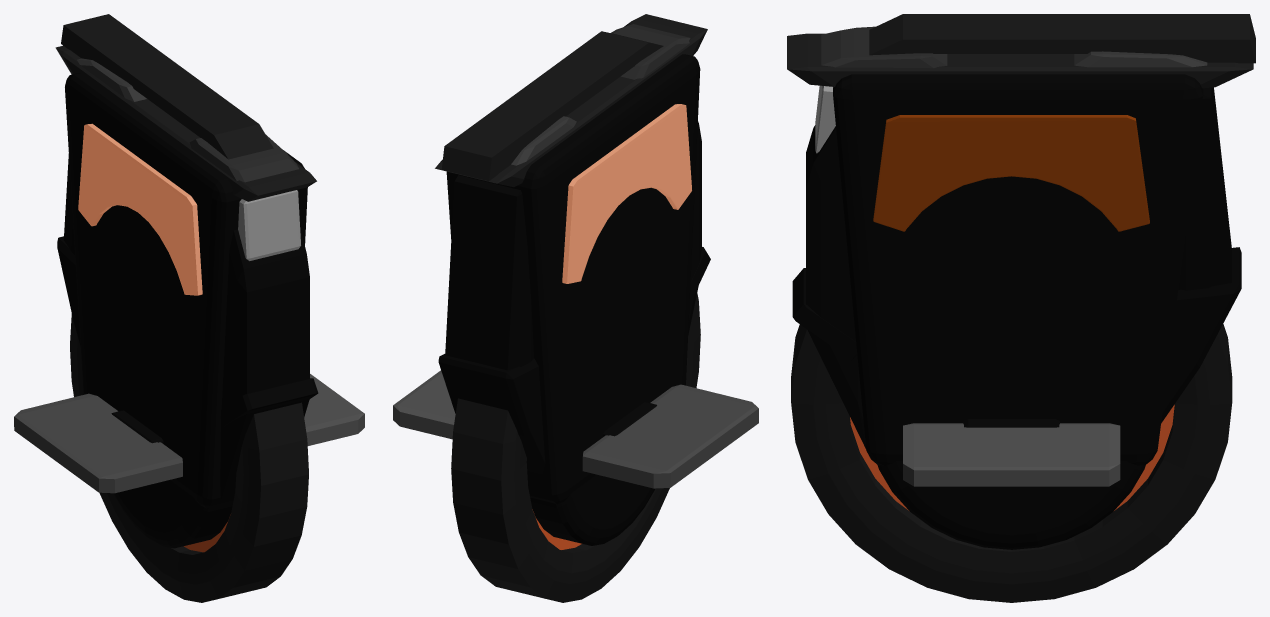
Rendered from monowheel.glb.
3 renders of one model, left to right at view 1: azimuth 30°, elevation 25°; view 2: azimuth 150°, elevation 25°; view 3: azimuth 270°, elevation 25°, orthographic. The views are drawn at different scales.
Visible parts, largest first — view 1: Cube, WheelAnimation, Куб, Куб.007, Куб.014, Куб.010, Куб.004, Куб.003, Куб.013, Куб.006, Куб.008, Куб.002 (+3 smaller); view 2: Cube, WheelAnimation, Куб.001, Куб.007, Куб.014, Куб.010, Куб.002, Куб.004, Куб.013, Куб.006, Куб, Куб.005 (+1 smaller); view 3: Cube, WheelAnimation, Куб.009, Куб.007, Куб.013, Куб, Куб.004, Куб.001, Куб.002, Куб.006, Куб.005, Куб.008 (+2 smaller).
Part boxes in pixels (box(x1,y1,x2,y2)): Cube: box(65, 73, 307, 548); WheelAnimation: box(70, 313, 308, 602); Куб: box(220, 229, 309, 500); Куб.007: box(61, 14, 273, 159); Куб.014: box(14, 393, 182, 493); Куб.010: box(78, 123, 202, 295); Куб.004: box(55, 45, 316, 201); Куб.003: box(238, 190, 300, 260); Куб.013: box(304, 374, 364, 445); Куб.006: box(189, 134, 298, 182); Куб.008: box(220, 378, 318, 426); Куб.002: box(57, 236, 80, 345); Cube: box(446, 54, 700, 545); WheelAnimation: box(451, 293, 700, 602); Куб.001: box(445, 175, 533, 370); Куб.007: box(441, 31, 663, 181); Куб.014: box(582, 384, 758, 488); Куб.010: box(562, 104, 691, 283); Куб.002: box(438, 354, 545, 474); Куб.004: box(435, 14, 707, 187); Куб.013: box(393, 370, 455, 439); Куб.006: box(611, 24, 690, 79); Куб: box(688, 121, 701, 334); Куб.005: box(511, 116, 576, 165); Cube: box(833, 74, 1203, 549); WheelAnimation: box(791, 324, 1232, 602); Куб.009: box(873, 115, 1149, 231); Куб.007: box(869, 14, 1255, 63); Куб.013: box(903, 423, 1120, 486); Куб: box(806, 125, 866, 449); Куб.004: box(787, 33, 1253, 88); Куб.001: box(1178, 87, 1231, 290); Куб.002: box(1161, 247, 1241, 423); Куб.006: box(821, 26, 947, 68); Куб.005: box(1074, 51, 1207, 67); Куб.008: box(792, 268, 857, 360).
Bounding box in the file's own units: 2.46 × 4.32 × 3.26.
